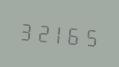five: (82, 22, 97, 50)
one: (50, 19, 65, 47)
six: (66, 20, 81, 48)
three: (18, 16, 33, 44)
two: (34, 17, 49, 46)
